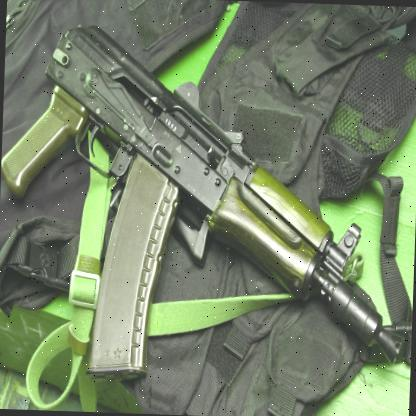rifle: (4, 7, 414, 386)
